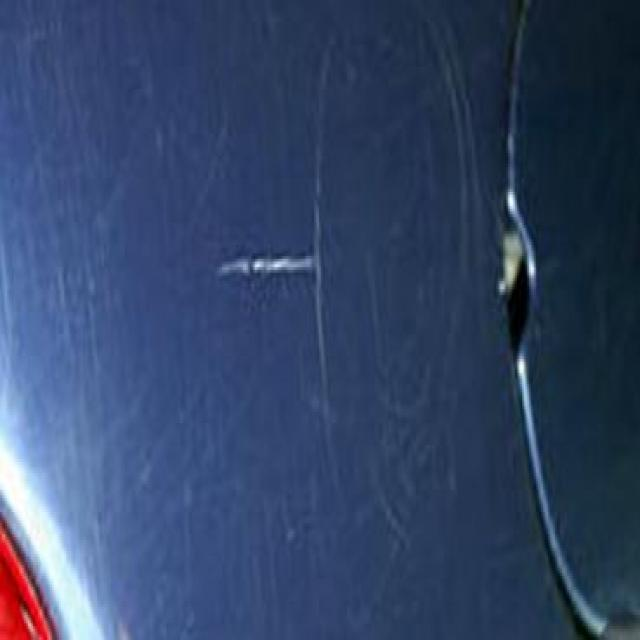scratch: (200, 252, 324, 288)
